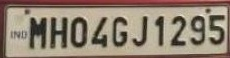character: (49, 16, 67, 48), (29, 16, 46, 49), (69, 16, 87, 47), (91, 16, 108, 48), (208, 14, 225, 46), (131, 15, 148, 46), (170, 15, 186, 46), (112, 16, 128, 46), (190, 15, 205, 45), (153, 15, 165, 46)
